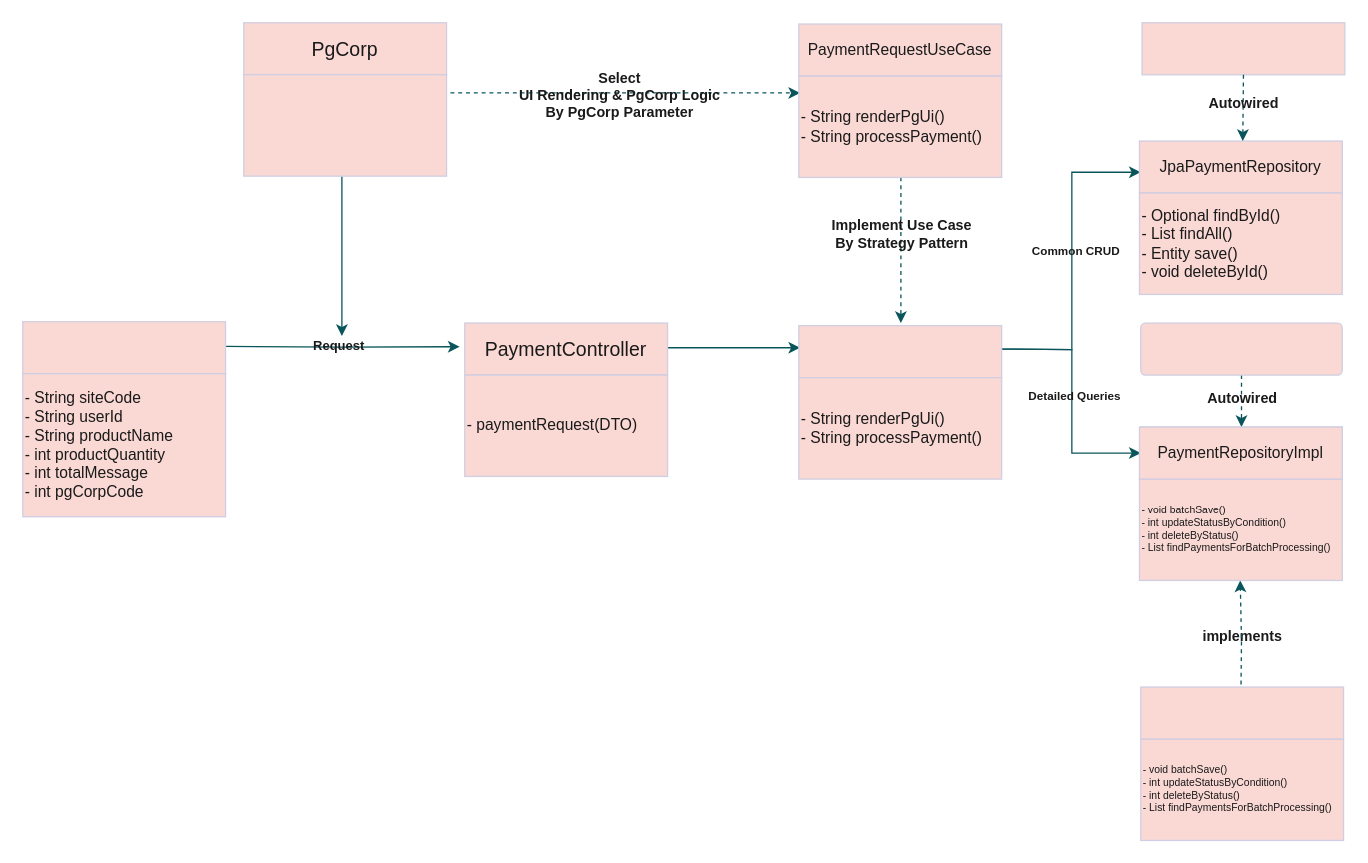
The diagram is 1368 pixels wide and 863 high, and some of its shapes have lost their labels. Here are the shapes that lost their labels. From the top down, the centre of each, then its label:
pixel 1243 48: JpaRepository<Entity, Long>
pixel 344 124: - TOSS(int) - NHN(int) - ...
pixel 123 347: PaymentRequestMessage
pixel 900 351: TossPaymentRequestService
pixel 1240 348: EntityManager
pixel 1241 712: PaymentRepository
